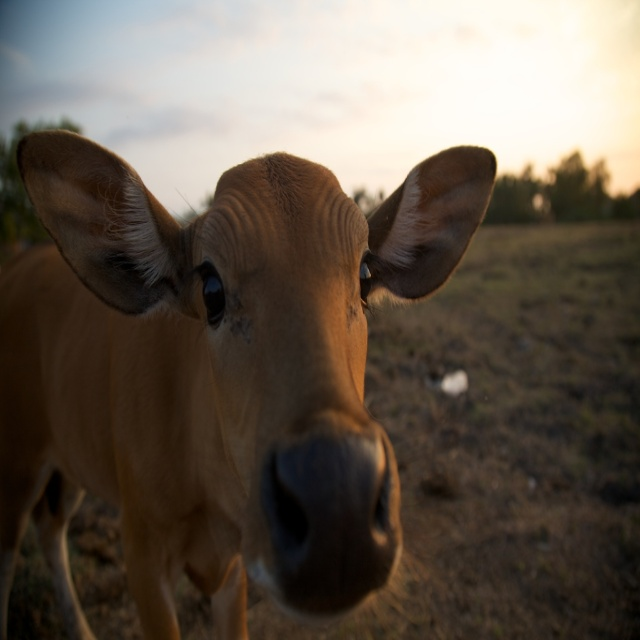Cattle: (0, 122, 521, 640)
